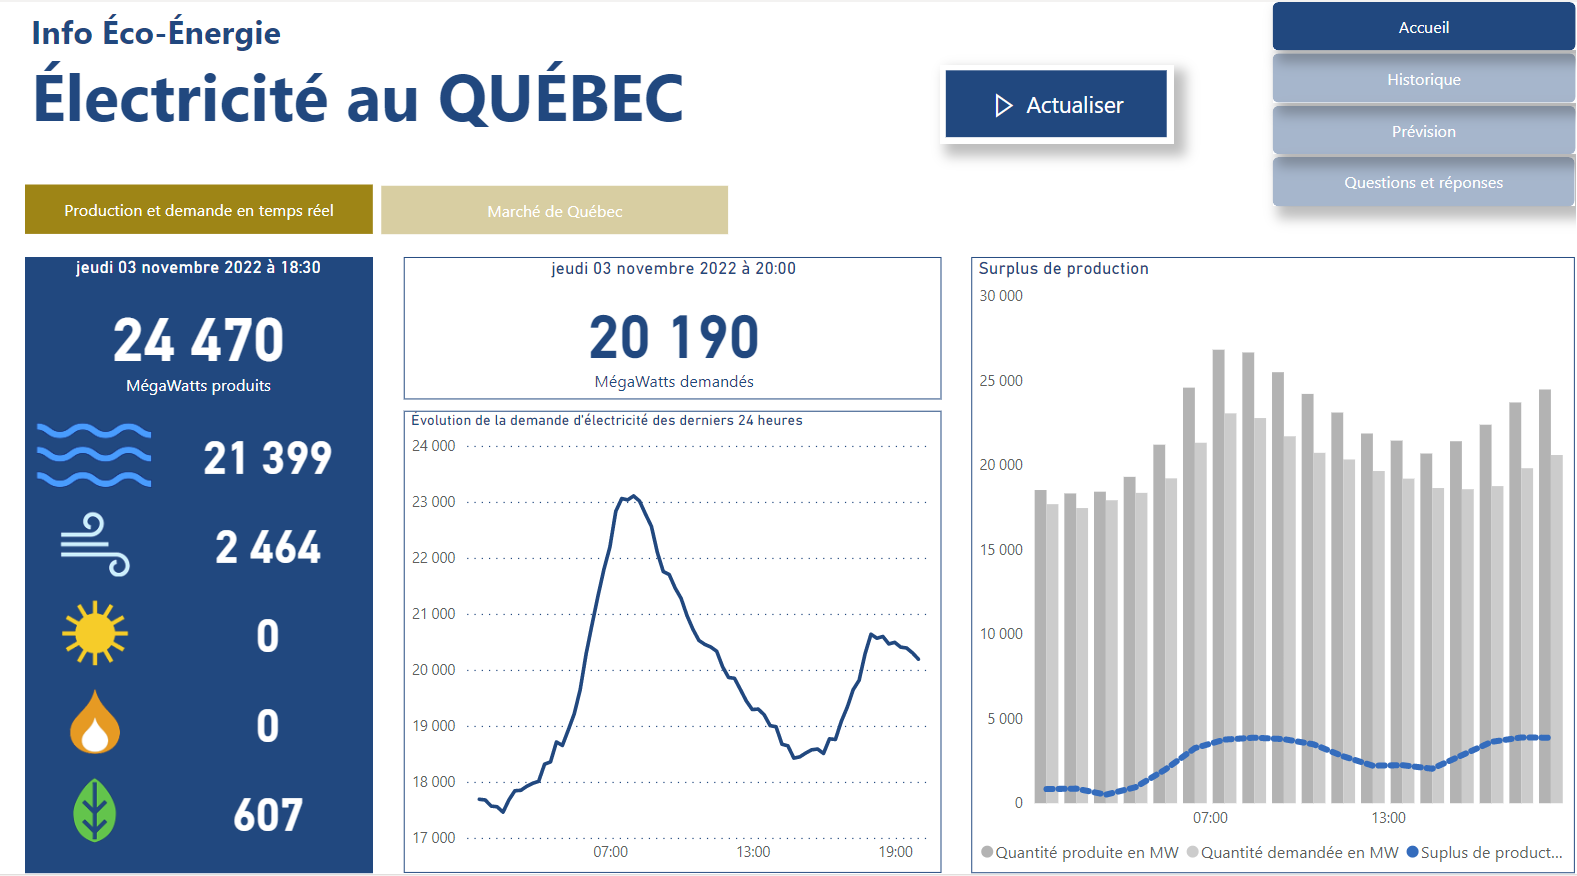

This screenshot's page, from the dashboard's own definition file:
{"tool":"powerbi","page":{"name":"Accueil","canvas":[1280,720],"ordinal":0},"visuals":[{"type":"textbox","box":[0,210.9,286.9,508.7],"z":0,"group":"g1"},{"type":"textbox","box":[0,1.3,574.5,139.6],"z":1000},{"type":"image","box":[0,342.7,114.7,63.5],"z":1000,"group":"g1"},{"type":"card","fields":{"Values":["ÉlectricitéProduction.Quantité produite en MW"]},"box":[114.7,342.4,172.1,63.5],"z":2000,"group":"g1"},{"type":"card","fields":{"Values":["ÉlectricitéDemande.Quantité demandée en MW"]},"box":[312.4,210.6,443.7,117.8],"z":2000},{"type":"actionButton","box":[0,150.2,287.2,40.6],"z":3000},{"type":"image","box":[0,415.9,114.7,63.5],"z":3000,"group":"g1"},{"type":"actionButton","box":[293.8,151.7,286.6,39.7],"z":4000},{"type":"card","fields":{"Values":["ÉlectricitéProduction.Quantité produite en MW"]},"box":[114.7,415.7,172.1,63.5],"z":4000,"group":"g1"},{"type":"group","id":"g1","title":"Group 1","box":[0,210.9,286.9,508.7],"z":5000},{"type":"image","box":[0,489.2,114.7,63.5],"z":5000,"group":"g1"},{"type":"card","fields":{"Values":["ÉlectricitéProduction.Quantité produite en MW"]},"box":[114.7,489,172.1,63.5],"z":6000,"group":"g1"},{"type":"lineChart","title":"Évolution de la demande d''électricité des derniers 24 heures","fields":{"Category":["DemandeElectricité.DateHeure"],"Y":["ProductionElectricité.Quantité demandée en MW"]},"box":[312.4,337.8,443.7,381.9],"z":6000},{"type":"lineClusteredColumnComboChart","title":"Surplus de production","fields":{"Category":["DateHeure.DateHeure"],"Y":["ÉlectricitéProduction.Quantité produite en MW","ÉlectricitéDemande.Quantité demandée en MW"],"Y2":["ÉlectricitéProduction.Suplus de production"]},"box":[781.6,210.6,498.4,509.1],"z":7000},{"type":"image","box":[0,562.4,114.7,63.5],"z":7000,"group":"g1"},{"type":"actionButton","box":[1030.1,128.3,249.8,40.5],"z":8000},{"type":"card","fields":{"Values":["ÉlectricitéProduction.Quantité produite en MW"]},"box":[114.7,562.3,172.1,63.5],"z":8000,"group":"g1"},{"type":"actionButton","box":[1029.5,86.1,250.5,39.7],"z":9000},{"type":"image","box":[0,635.7,114.7,63.5],"z":9000,"group":"g1"},{"type":"actionButton","box":[1029.5,42.7,250.5,40.9],"z":10000},{"type":"card","fields":{"Values":["ÉlectricitéProduction.Quantité produite en MW"]},"box":[114.7,635.7,172.1,63.5],"z":10000,"group":"g1"},{"type":"card","fields":{"Values":["ÉlectricitéProduction.Quantité produite en MW"]},"box":[0.1,210.9,286.6,127],"z":11000,"group":"g1"},{"type":"actionButton","box":[1029.5,0.5,250.5,39.7],"z":11000},{"type":"FlowVisual_C29F1DCC_81F5_4973_94AD_0517D44CC06A","box":[755.8,51.9,192.5,65.4],"z":12000}]}

Visuals, with their boxes in screenshot pixels (x1, y1, x2, y2), scaled from the page's 1280x720 canvas onto the 1577x876 screenshot:
textbox: 0,257,353,875
textbox: 0,2,708,171
image: 0,417,141,494
card - ÉlectricitéProduction.Quantité produite en MW: 141,417,353,494
card - ÉlectricitéDemande.Quantité demandée en MW: 385,256,932,400
actionButton: 0,183,354,232
image: 0,506,141,583
actionButton: 362,185,715,233
card - ÉlectricitéProduction.Quantité produite en MW: 141,506,353,583
"Group 1" group: 0,257,353,875
image: 0,595,141,672
card - ÉlectricitéProduction.Quantité produite en MW: 141,595,353,672
"Évolution de la demande d''électricité des derniers 24 heures" lineChart: 385,411,932,875
"Surplus de production" lineClusteredColumnComboChart: 963,256,1576,875
image: 0,684,141,762
actionButton: 1269,156,1576,205
card - ÉlectricitéProduction.Quantité produite en MW: 141,684,353,761
actionButton: 1268,105,1576,153
image: 0,773,141,851
actionButton: 1268,52,1576,102
card - ÉlectricitéProduction.Quantité produite en MW: 141,773,353,851
card - ÉlectricitéProduction.Quantité produite en MW: 0,257,353,411
actionButton: 1268,1,1576,49
FlowVisual_C29F1DCC_81F5_4973_94AD_0517D44CC06A: 931,63,1168,143
